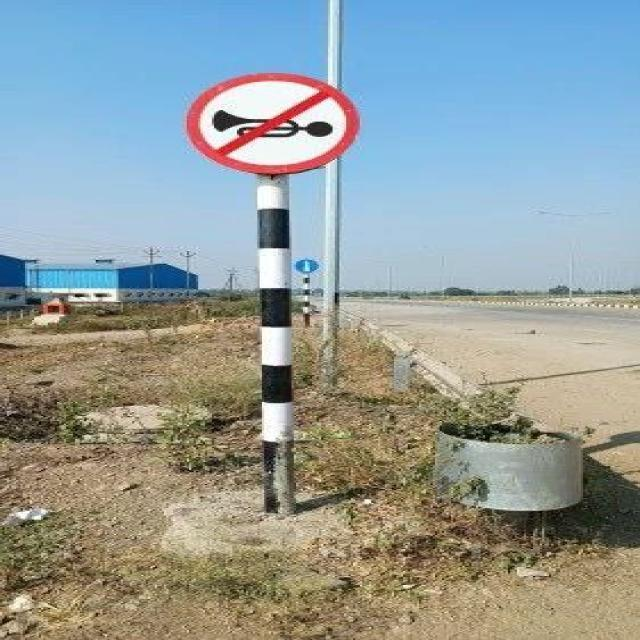horn prohibited: (182, 68, 362, 175)
